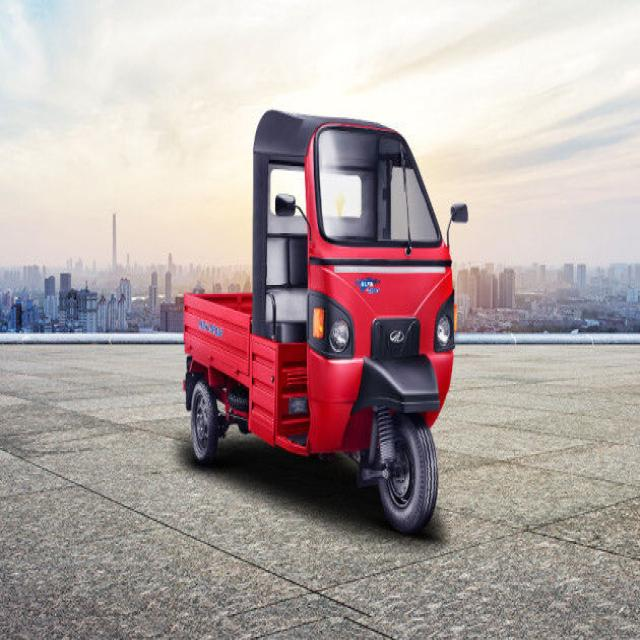autorickshaw: (184, 111, 454, 532)
